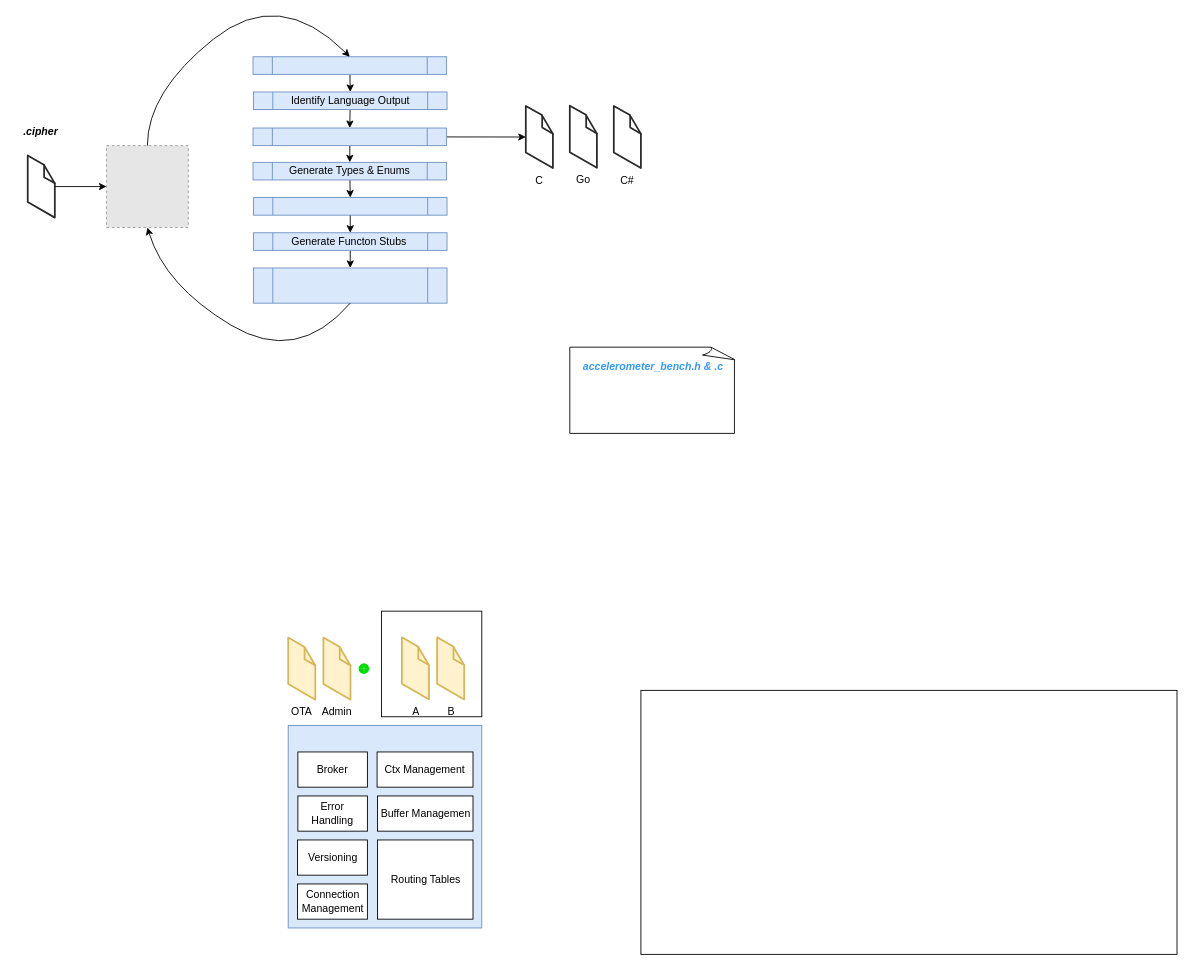
Image size: 1193x970. Some labels were removed from this diagram. Grey dashed boxes stand in for pictures. Each missing label, with the box of its shape:
- Types - Network encode/decode - Concord daemon register: (569, 346, 736, 433)
Cipher Protocol Event Loop: (287, 725, 482, 928)
Fetch the right Generator: (252, 127, 447, 146)
Generate Encoding/Decoding: (253, 197, 447, 215)
Parse using 'participle' pkg: (252, 56, 447, 74)
Register Service with Event Loop: (253, 267, 447, 303)
User: (381, 610, 482, 717)
